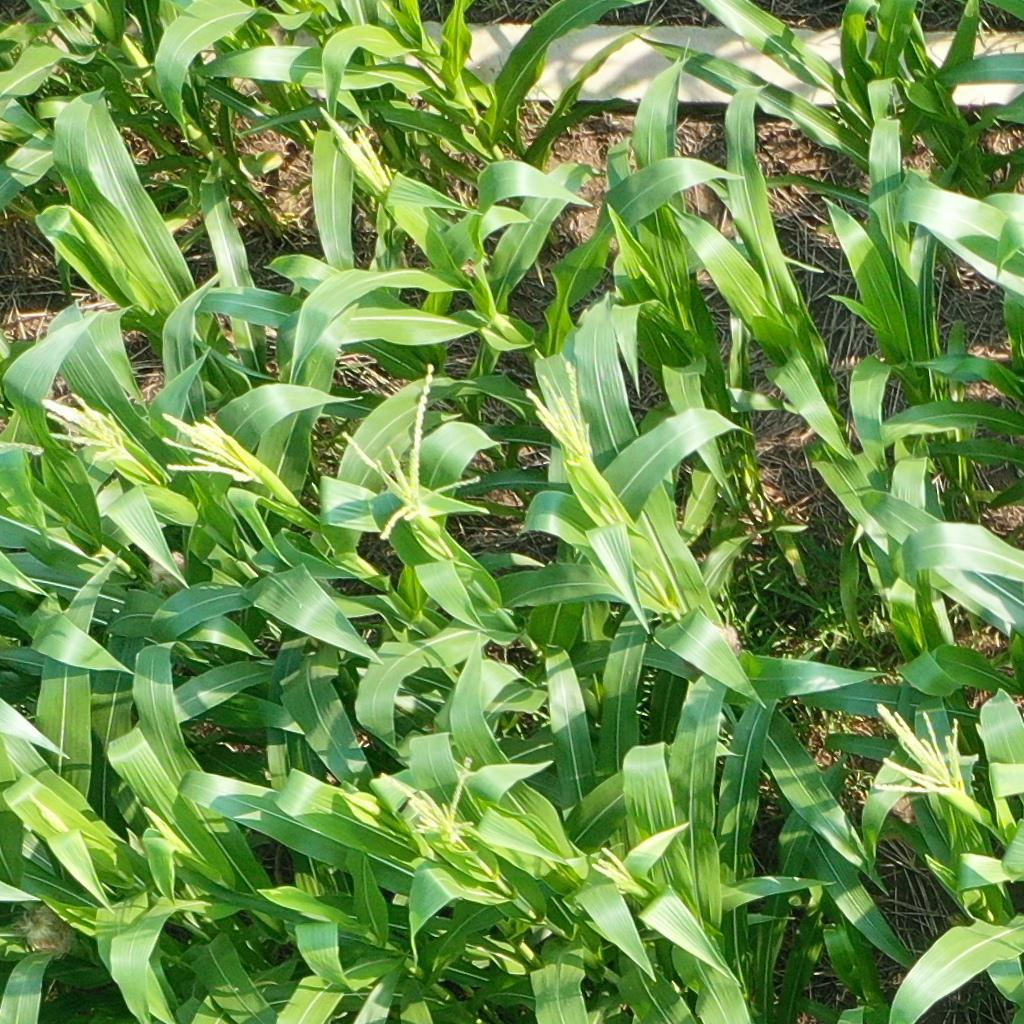Tassel: (336, 360, 490, 542), (379, 750, 482, 849), (869, 695, 969, 796), (510, 353, 598, 466), (154, 408, 266, 489), (38, 389, 134, 467), (318, 104, 395, 192), (587, 844, 638, 889), (29, 792, 72, 833)
